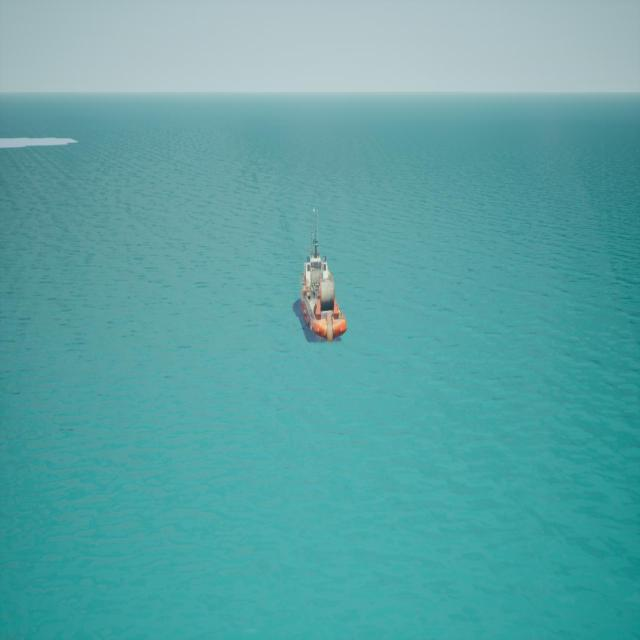tug boat: (300, 211, 346, 344)
